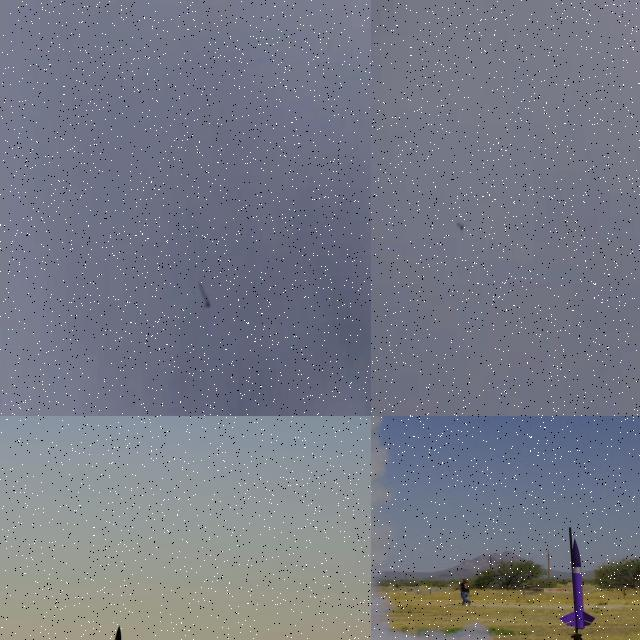Rocket: (560, 538, 596, 629), (198, 282, 211, 308), (457, 222, 464, 230)
